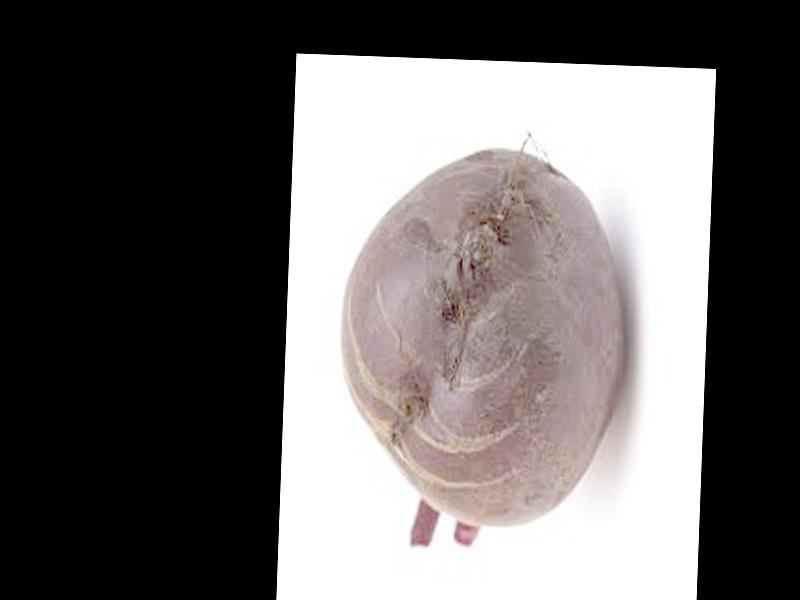Beet: (331, 142, 636, 550)
